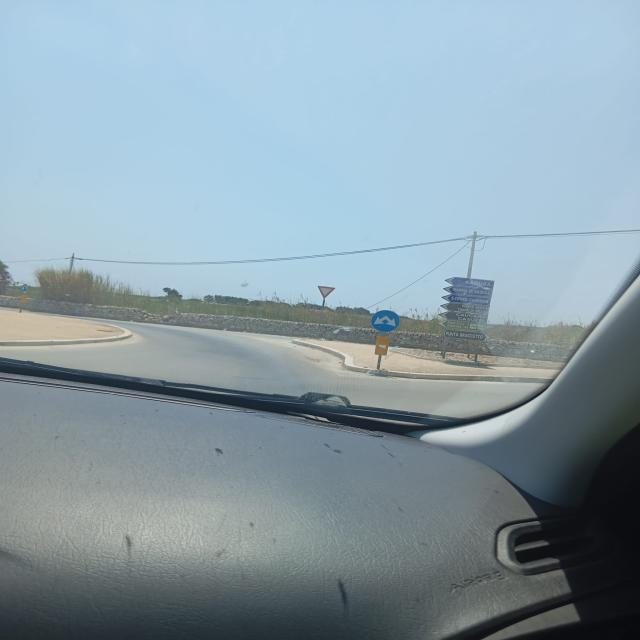prio_give_way: (318, 285, 335, 298)
